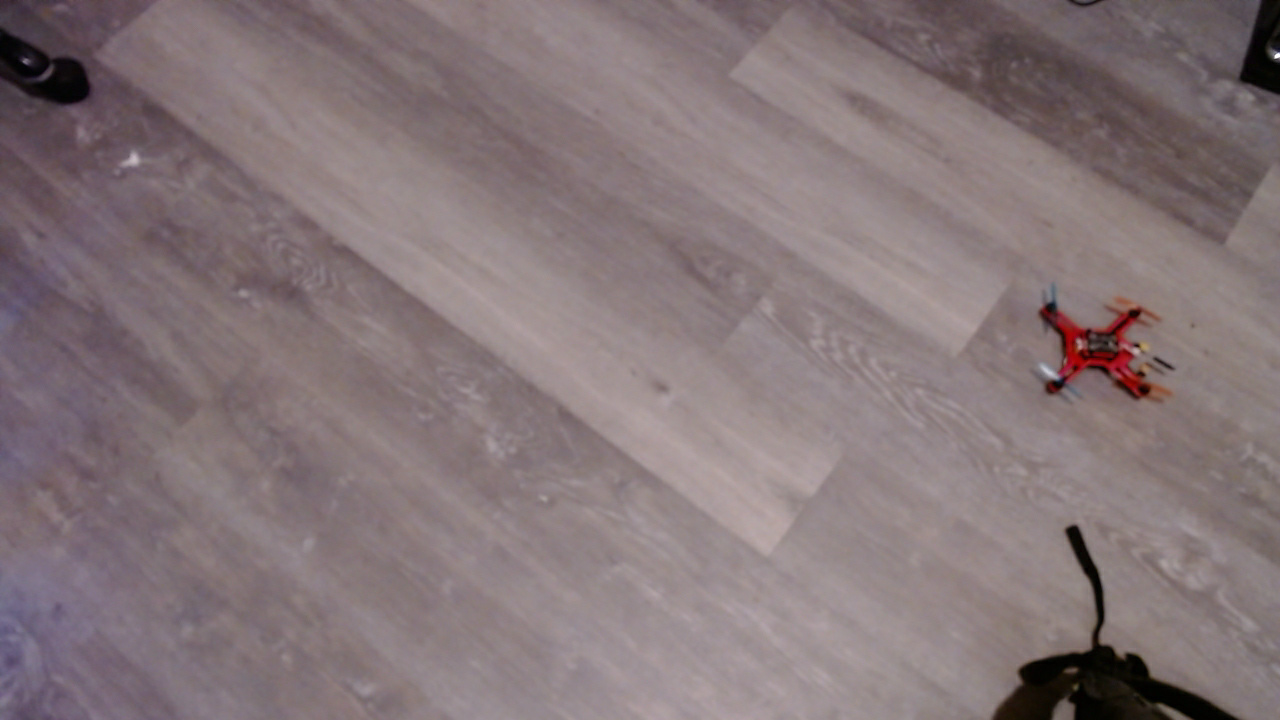crazyflie: (1030, 280, 1183, 421)
